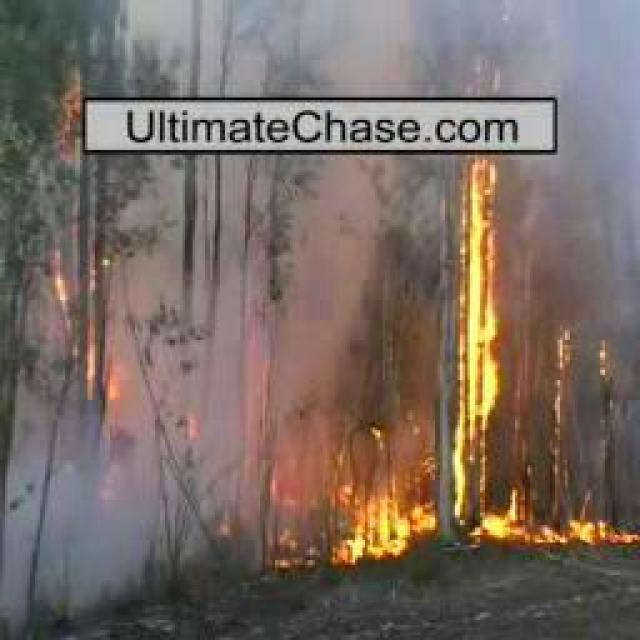Fire: (464, 146, 521, 548), (49, 254, 133, 417), (328, 479, 435, 573), (549, 324, 587, 500), (546, 517, 635, 549), (57, 79, 90, 152)
